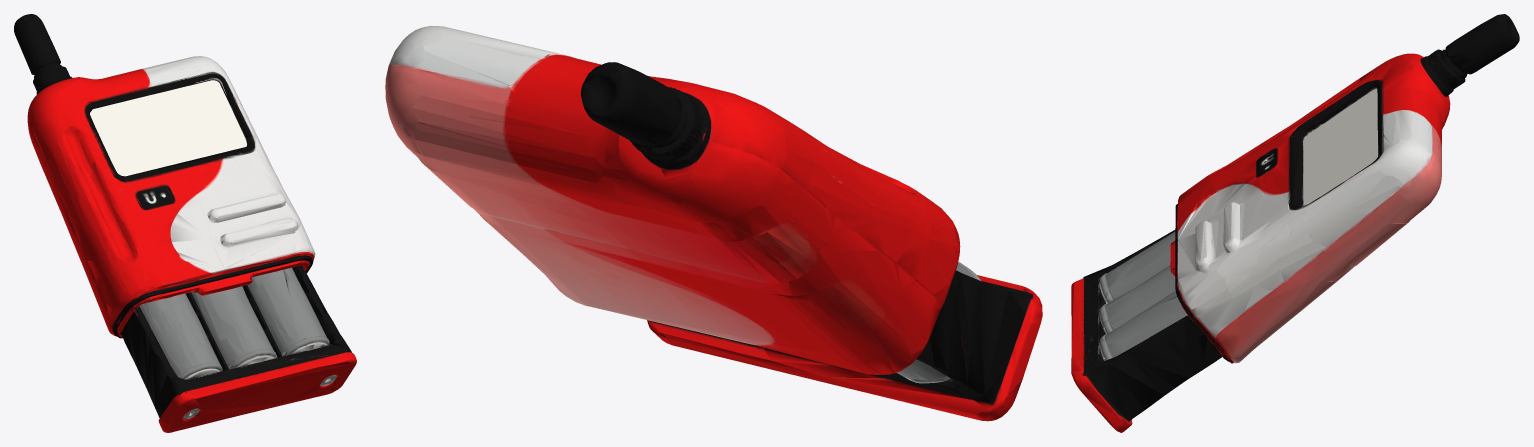
The model's file is omnipotent-2k.glb.
3 views of the same model, side by side, from view 1: azimuth 30°, elevation 25°; view 2: azimuth 150°, elevation 25°; view 3: azimuth 270°, elevation 25° (orthographic). The views are drawn at different scales.
Visible parts, largest first — view 1: enclosure_with_antenna, sled_assembly, epaper_surface; view 2: enclosure_with_antenna, sled_assembly; view 3: enclosure_with_antenna, sled_assembly, epaper_surface.
Boxes of the visible parts, <box> form: enclosure_with_antenna: <box>14,14,315,338</box>; sled_assembly: <box>117,260,356,432</box>; epaper_surface: <box>90,80,246,176</box>; enclosure_with_antenna: <box>385,25,960,374</box>; sled_assembly: <box>647,262,1042,421</box>; enclosure_with_antenna: <box>1175,14,1519,363</box>; sled_assembly: <box>1071,230,1226,432</box>; epaper_surface: <box>1303,89,1377,205</box>.
Size of the model in its own units: 1.18 by 1.67 by 2.
Materials: 2 (1 with a texture image).
